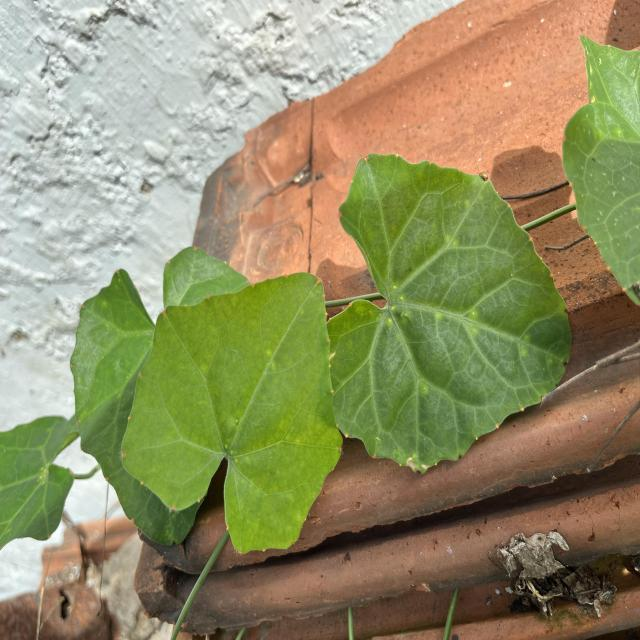Coccinia grandis: (324, 152, 574, 476), (120, 270, 346, 558)
